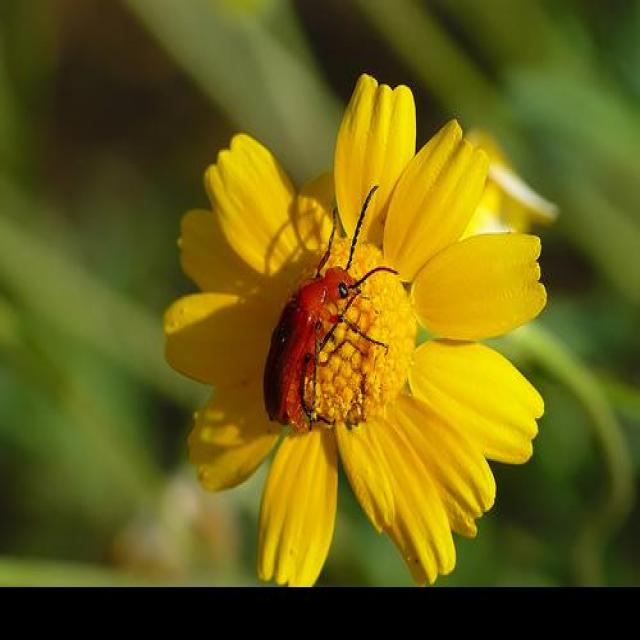BlisterBeetle-Adult-: (259, 183, 383, 437)
